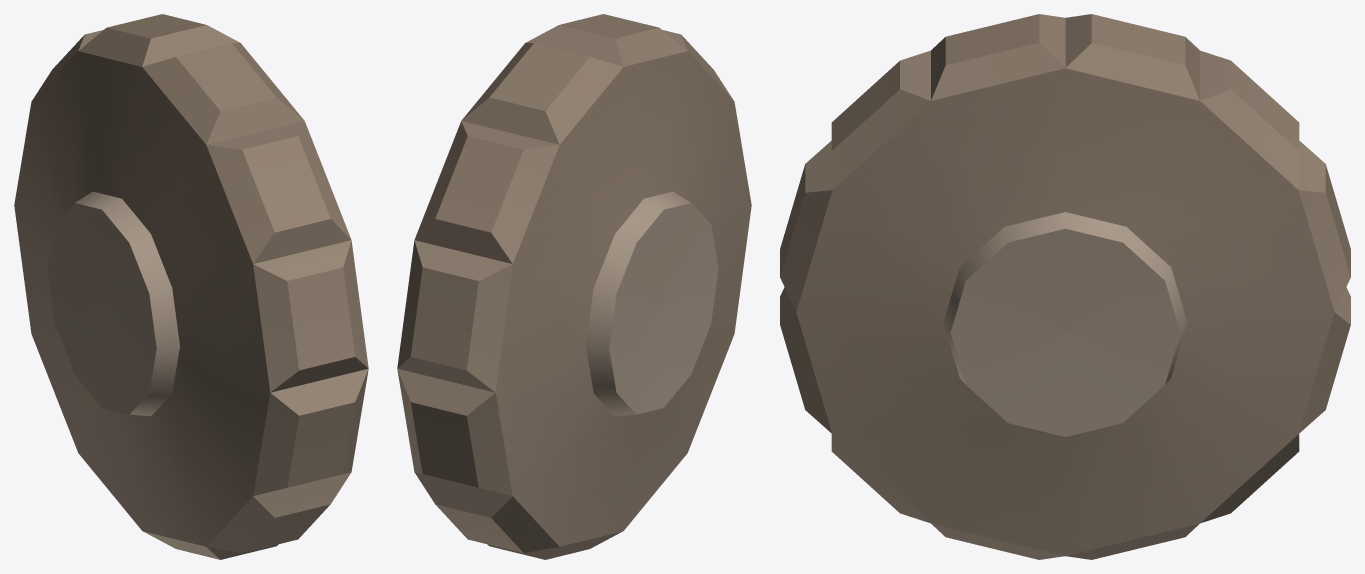
The model's file is drafting_compass_wheel.glb.
3 renders of one model, left to right at view 1: azimuth 30°, elevation 25°; view 2: azimuth 150°, elevation 25°; view 3: azimuth 270°, elevation 25°, orthographic. The views are drawn at different scales.
Parts seen in each view (by area): view 1: drafting_compass_wheel; view 2: drafting_compass_wheel; view 3: drafting_compass_wheel.
Boxes of the visible parts, x1=… form: drafting_compass_wheel: x1=14, y1=14, x2=368, y2=559; drafting_compass_wheel: x1=397, y1=14, x2=751, y2=559; drafting_compass_wheel: x1=780, y1=14, x2=1350, y2=559.
Bounding box in the file's own units: 0.0676 × 0.1776 × 0.1776.
Materials: 1 (1 with a texture image).
